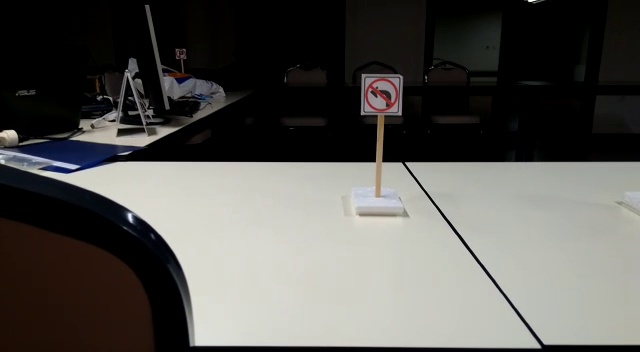sola_donulmez: (362, 73, 403, 115)
